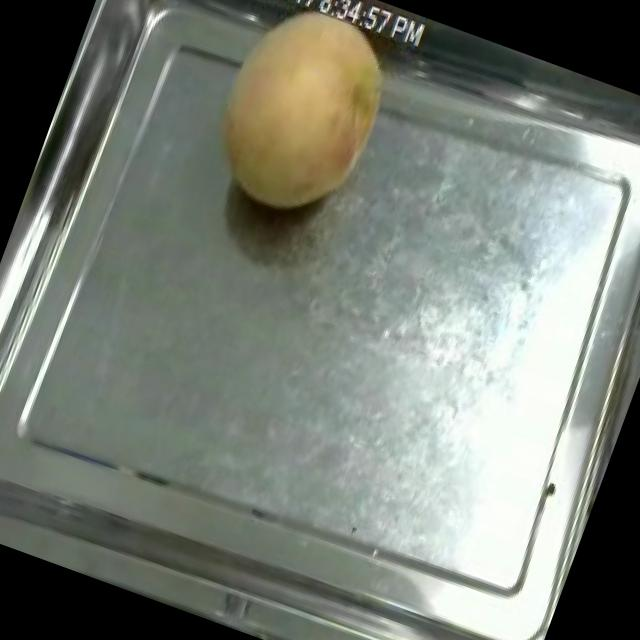Fruit: (186, 0, 419, 241)
